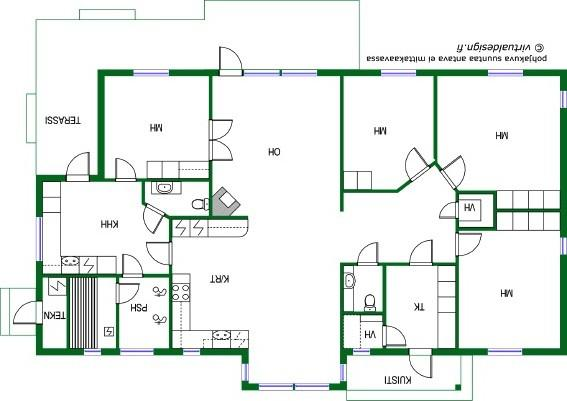bathroom: (143, 178, 210, 217), (342, 265, 383, 312)
door: (439, 154, 469, 190), (401, 147, 431, 183), (214, 44, 244, 80), (407, 345, 435, 381), (12, 298, 45, 327), (406, 238, 435, 269), (63, 150, 91, 182), (452, 231, 483, 259), (145, 239, 175, 266), (140, 201, 164, 234), (205, 117, 234, 144), (354, 239, 381, 267), (379, 324, 408, 349), (120, 252, 145, 279), (114, 282, 141, 307), (113, 156, 138, 182), (207, 138, 234, 162), (437, 200, 461, 223)
perimeter: (35, 66, 566, 391)
window: (376, 65, 423, 78), (481, 67, 528, 80), (482, 346, 528, 359), (127, 66, 176, 78), (34, 214, 45, 265), (241, 67, 282, 80), (116, 346, 159, 358), (280, 68, 321, 80), (291, 380, 335, 391), (255, 381, 295, 392), (348, 345, 375, 358), (181, 345, 205, 359), (239, 360, 251, 384), (81, 347, 105, 358), (557, 234, 567, 259), (339, 360, 349, 385), (558, 85, 567, 112)
